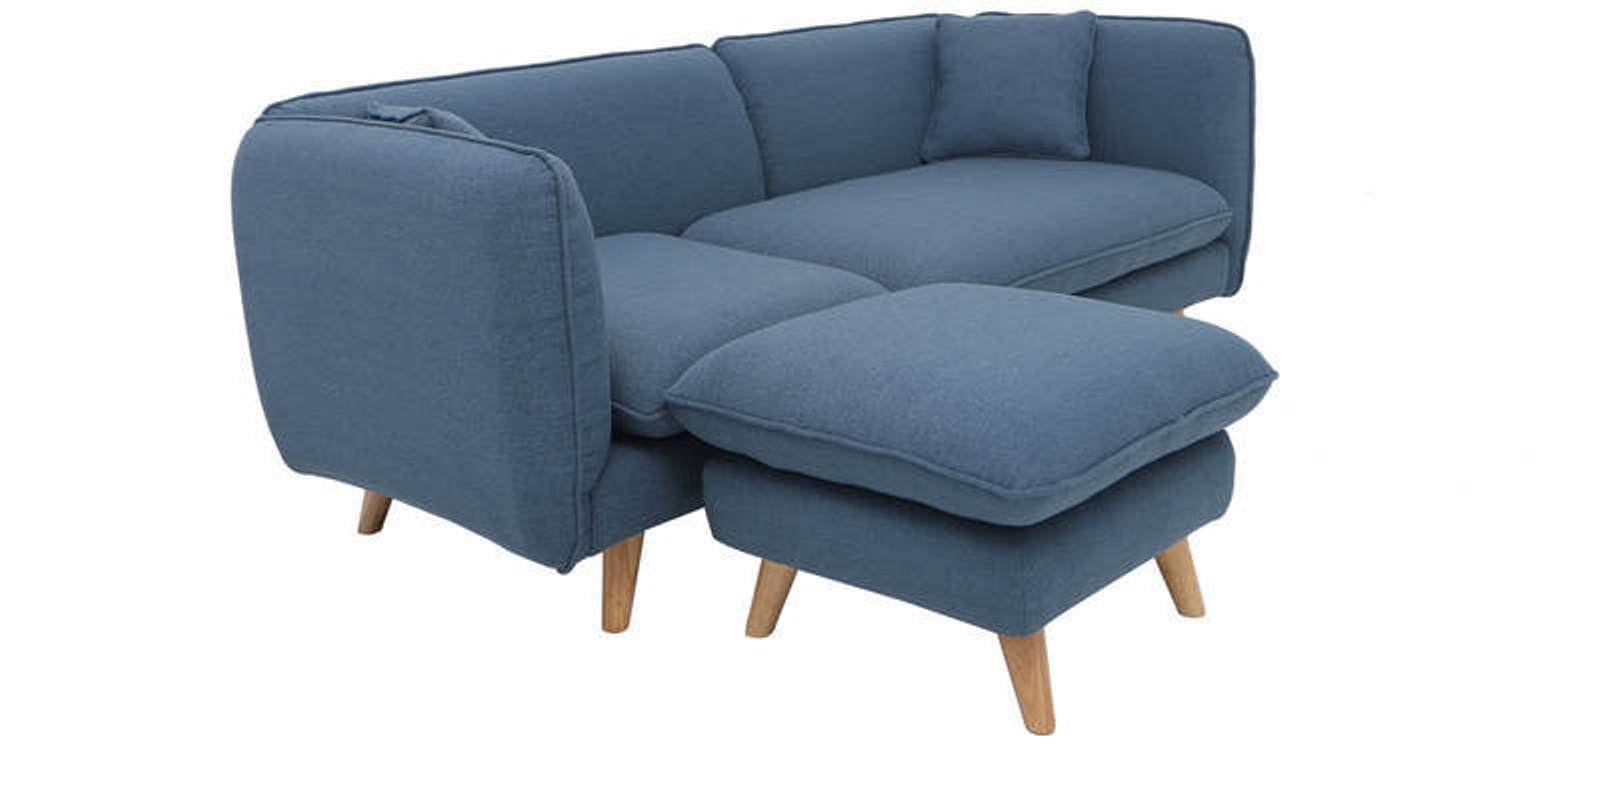Gloria Three Seater Sofa with Ottoman in Blue Colour by CasaCraft: (181, 8, 1358, 777)
